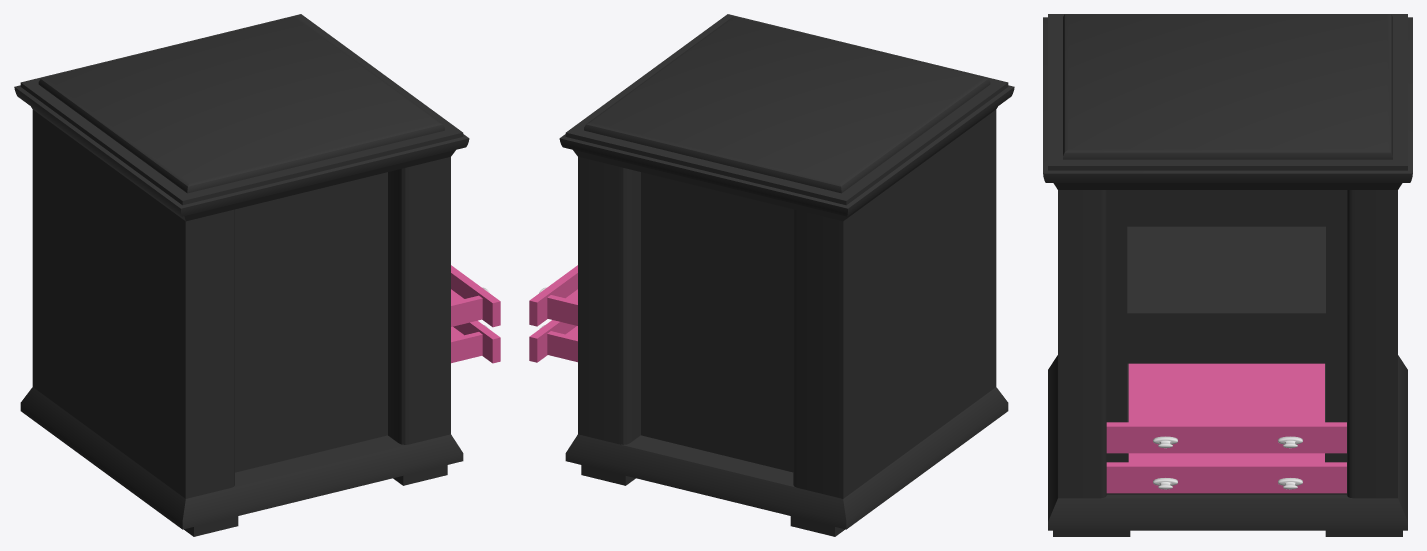
File: bedsidedrawer4.fbx
3 renders of one model, left to right at view 1: azimuth 30°, elevation 25°; view 2: azimuth 150°, elevation 25°; view 3: azimuth 270°, elevation 25°, orthographic. The views are drawn at different scales.
Visible parts, largest first — view 1: Down, draws; view 2: Down, draws; view 3: Down, draws.
Boxes of the visible parts, x1,y1,x2,y2 form: Down: (14, 14, 469, 536); draws: (451, 265, 500, 363); Down: (559, 14, 1014, 536); draws: (529, 265, 577, 362); Down: (1043, 14, 1412, 536); draws: (1106, 363, 1346, 493).
Size of the model in its own units: 273 by 251 by 218.
